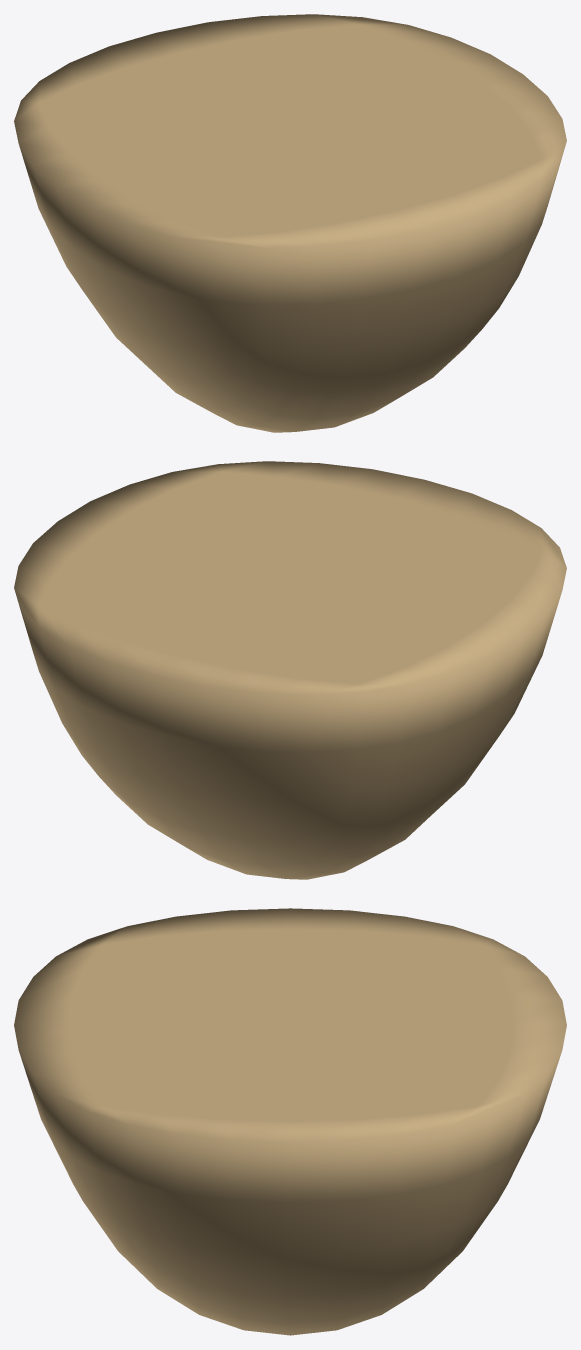
The model's file is yolkInShell.fbx.
3 views of the same model, one above another, from view 1: azimuth 30°, elevation 25°; view 2: azimuth 150°, elevation 25°; view 3: azimuth 270°, elevation 25° (orthographic). The views are drawn at different scales.
Visible parts, largest first — view 1: YolkInShell; view 2: YolkInShell; view 3: YolkInShell.
Boxes of the visible parts, x1,y1,x2,y2 form: YolkInShell: (14,14,566,432); YolkInShell: (14,461,566,879); YolkInShell: (14,908,566,1335).
Size of the model in its own units: 52.84 by 31.23 by 52.84.
